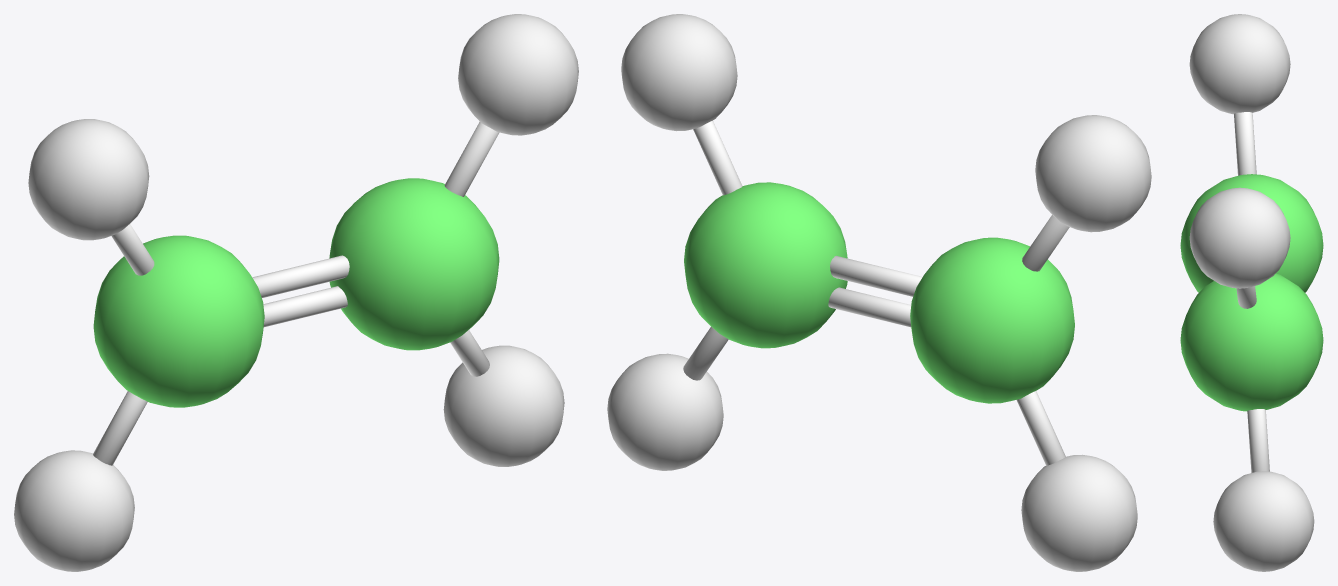
The model's file is Etheno.fbx.
3 renders of one model, left to right at view 1: azimuth 30°, elevation 25°; view 2: azimuth 150°, elevation 25°; view 3: azimuth 270°, elevation 25°, orthographic. The views are drawn at different scales.
Parts seen in each view (by area): view 1: Shape_Sphere.001, Shape_Sphere, Shape_Sphere.004, Shape_Sphere.003, Shape_Sphere.005, Shape_Sphere.002, Shape_Cylinder, Shape_Cylinder.001, Shape_Cylinder.005, Shape_Cylinder.003, Shape_Cylinder.004, Shape_Cylinder.002; view 2: Shape_Sphere.001, Shape_Sphere, Shape_Sphere.004, Shape_Sphere.003, Shape_Sphere.005, Shape_Sphere.002, Shape_Cylinder, Shape_Cylinder.001, Shape_Cylinder.005, Shape_Cylinder.003, Shape_Cylinder.004, Shape_Cylinder.002; view 3: Shape_Sphere, Shape_Sphere.003, Shape_Sphere.002, Shape_Sphere.004, Shape_Sphere.001, Shape_Cylinder.004, Shape_Cylinder.002, Shape_Cylinder.003.
Part boxes in pixels (left/top/right/bottom): Shape_Sphere.001: left=93, top=235, right=264, bottom=407; Shape_Sphere: left=329, top=178, right=499, bottom=350; Shape_Sphere.004: left=28, top=119, right=149, bottom=240; Shape_Sphere.003: left=458, top=14, right=578, bottom=135; Shape_Sphere.005: left=14, top=450, right=134, bottom=571; Shape_Sphere.002: left=443, top=345, right=564, bottom=466; Shape_Cylinder: left=252, top=255, right=349, bottom=297; Shape_Cylinder.001: left=263, top=286, right=347, bottom=327; Shape_Cylinder.005: left=93, top=391, right=147, bottom=465; Shape_Cylinder.003: left=444, top=122, right=499, bottom=196; Shape_Cylinder.004: left=111, top=224, right=154, bottom=275; Shape_Cylinder.002: left=450, top=330, right=489, bottom=376; Shape_Sphere.001: left=910, top=237, right=1074, bottom=403; Shape_Sphere: left=684, top=182, right=847, bottom=348; Shape_Sphere.004: left=1035, top=115, right=1151, bottom=232; Shape_Sphere.003: left=621, top=14, right=737, bottom=131; Shape_Sphere.005: left=1021, top=454, right=1137, bottom=571; Shape_Sphere.002: left=607, top=353, right=723, bottom=470; Shape_Cylinder: left=830, top=255, right=922, bottom=296; Shape_Cylinder.001: left=828, top=287, right=911, bottom=327; Shape_Cylinder.005: left=1016, top=391, right=1065, bottom=465; Shape_Cylinder.003: left=693, top=120, right=742, bottom=195; Shape_Cylinder.004: left=1022, top=215, right=1069, bottom=271; Shape_Cylinder.002: left=683, top=326, right=728, bottom=380; Shape_Sphere: left=1180, top=273, right=1323, bottom=411; Shape_Sphere.003: left=1189, top=187, right=1290, bottom=288; Shape_Sphere.002: left=1213, top=471, right=1314, bottom=571; Shape_Sphere.004: left=1189, top=14, right=1290, bottom=114; Shape_Sphere.001: left=1180, top=174, right=1323, bottom=292; Shape_Cylinder.004: left=1234, top=112, right=1256, bottom=175; Shape_Cylinder.002: left=1247, top=409, right=1269, bottom=472; Shape_Cylinder.003: left=1236, top=286, right=1256, bottom=308.
Bounding box in the file's own units: 304 × 246 × 85.
